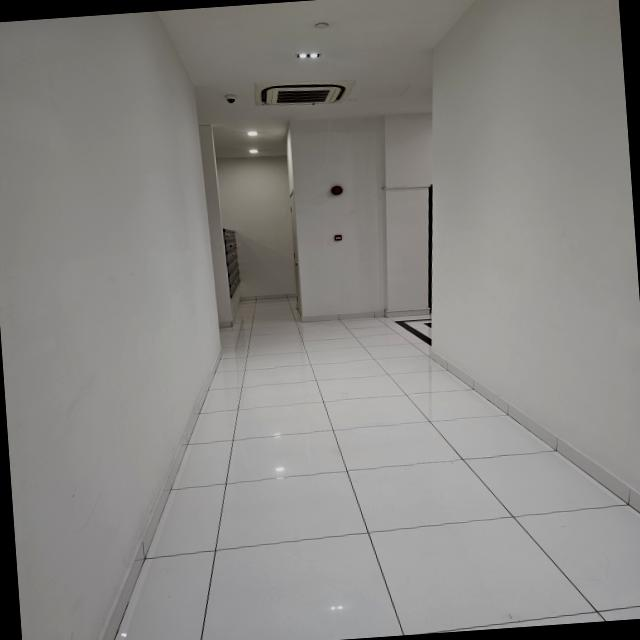footpath: (196, 348, 551, 640)
